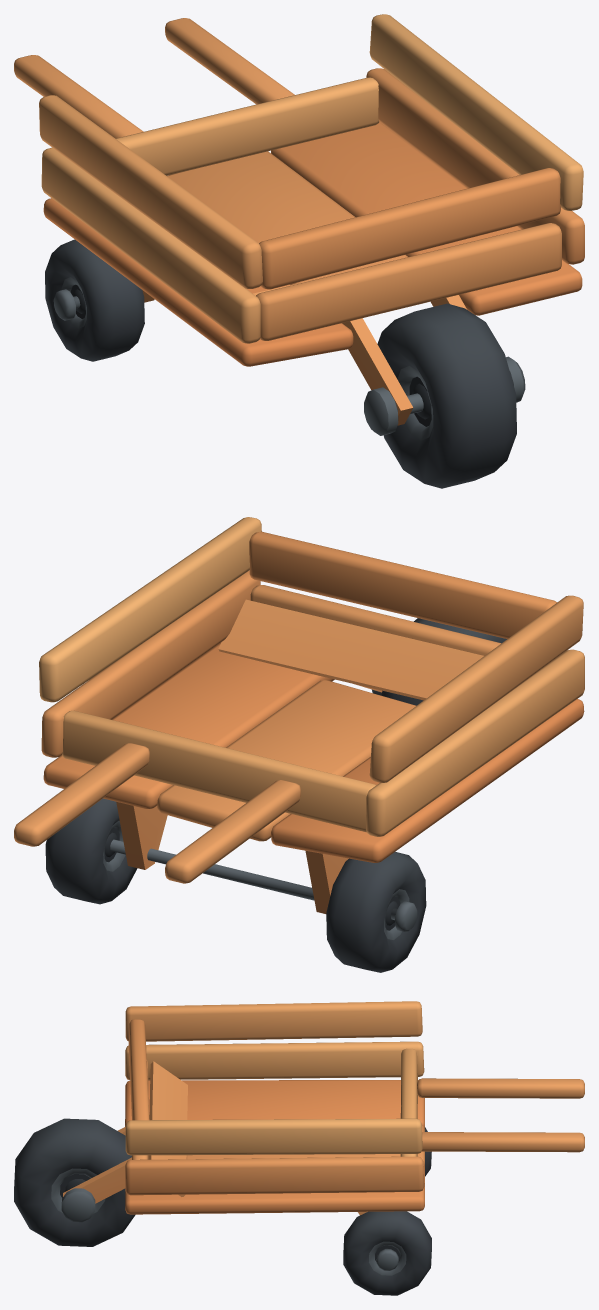
Rendered from cart.fbx.
3 renders of one model, top to bottom at view 1: azimuth 30°, elevation 25°; view 2: azimuth 150°, elevation 25°; view 3: azimuth 270°, elevation 25°, orthographic. The views are drawn at different scales.
Parts seen in each view (by area): view 1: cart; view 2: cart; view 3: cart.
Part boxes in pixels (box(x1,y1,x2,y2)): cart: box(14, 14, 584, 488); cart: box(14, 517, 584, 972); cart: box(14, 1001, 584, 1295).
Bounding box in the file's own units: 1.17 × 0.794 × 2.27.
Materials: 1 (1 with a texture image).
